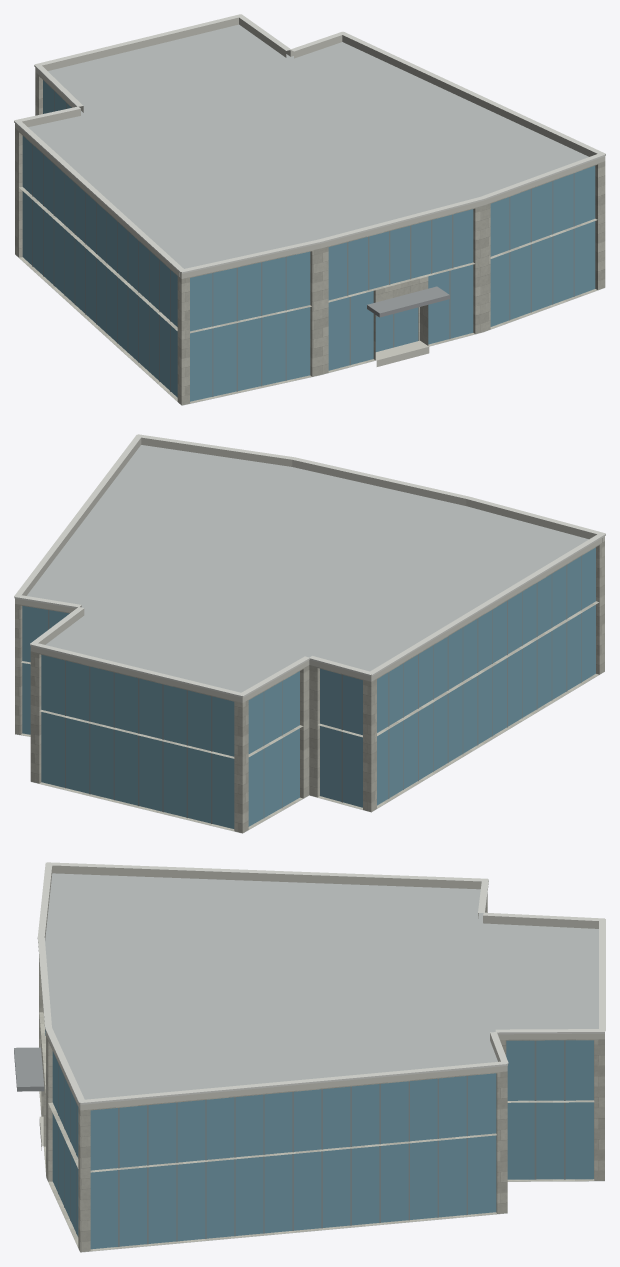
The picture shows the model from 3 angles, top to bottom: view 1: azimuth 30°, elevation 25°; view 2: azimuth 150°, elevation 25°; view 3: azimuth 270°, elevation 25°; orthographic projection. The views are drawn at different scales.
Parts seen in each view (by area): view 1: unist-batch-b204__parapet, b204__glass, b204__wall, b204__trim, b204__frame, b204__canopy, b204__entranceThreshold_0; view 2: unist-batch-b204__parapet, b204__glass, b204__wall, b204__trim, b204__frame; view 3: unist-batch-b204__parapet, b204__glass, b204__wall, b204__trim, b204__frame, b204__canopy.
Boxes of the visible parts, left/top/right/bottom form: unist-batch-b204__parapet: left=15, top=17, right=605, bottom=405; b204__glass: left=22, top=80, right=595, bottom=401; b204__wall: left=15, top=72, right=605, bottom=405; b204__trim: left=14, top=14, right=605, bottom=273; b204__frame: left=32, top=91, right=574, bottom=396; b204__canopy: left=367, top=286, right=449, bottom=317; b204__entranceThreshold_0: left=375, top=340, right=429, bottom=366; unist-batch-b204__parapet: left=15, top=437, right=604, bottom=833; b204__glass: left=22, top=547, right=595, bottom=828; b204__wall: left=15, top=541, right=604, bottom=833; b204__trim: left=14, top=434, right=605, bottom=697; b204__frame: left=48, top=556, right=581, bottom=823; unist-batch-b204__parapet: left=44, top=865, right=604, bottom=1252; b204__glass: left=45, top=1030, right=593, bottom=1249; b204__wall: left=39, top=893, right=604, bottom=1252; b204__trim: left=37, top=862, right=605, bottom=1104; b204__frame: left=45, top=1030, right=565, bottom=1246; b204__canopy: left=14, top=1047, right=44, bottom=1091.
Size of the model in its own units: 29.5 by 8.95 by 30.65.
7 materials, 1 textured.
